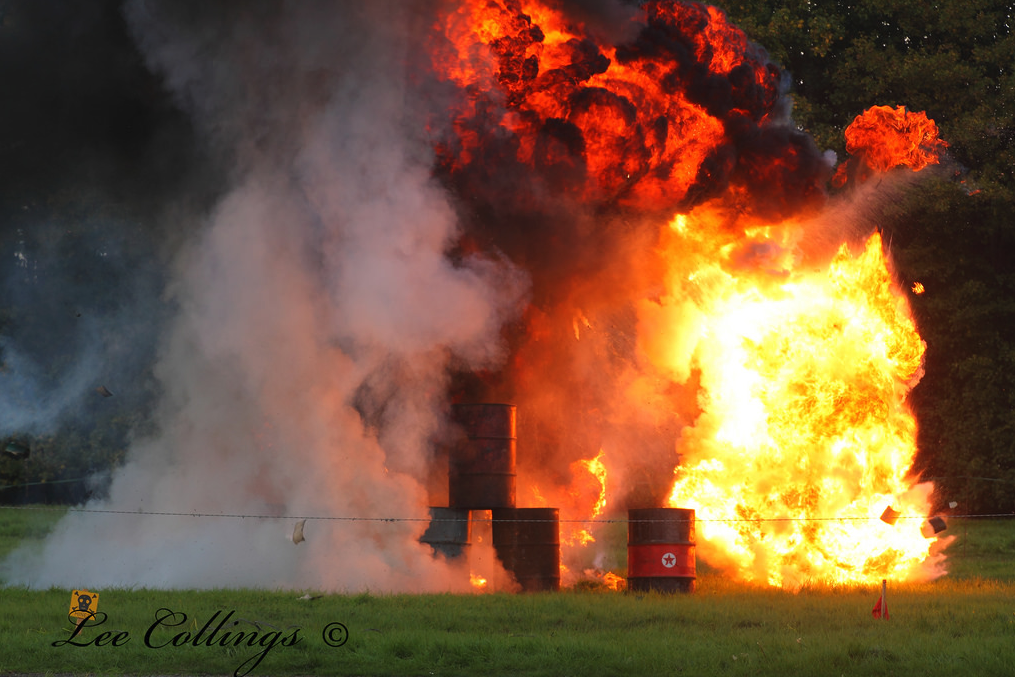fire: (463, 12, 967, 611)
